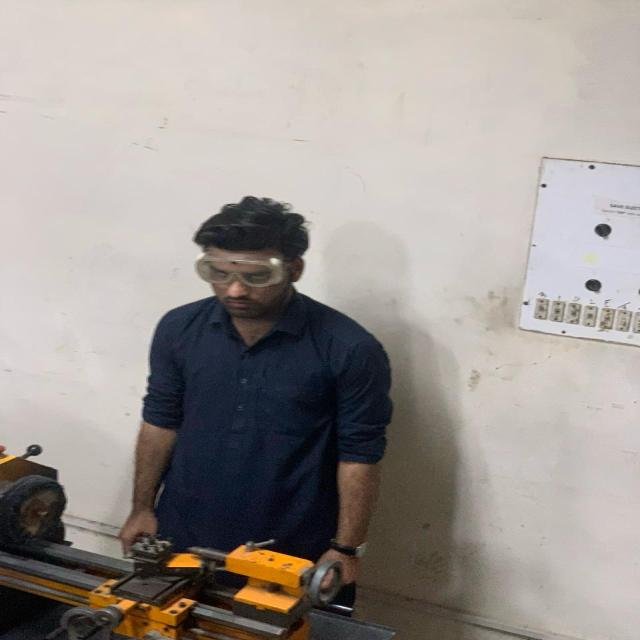googles: (191, 249, 285, 287)
